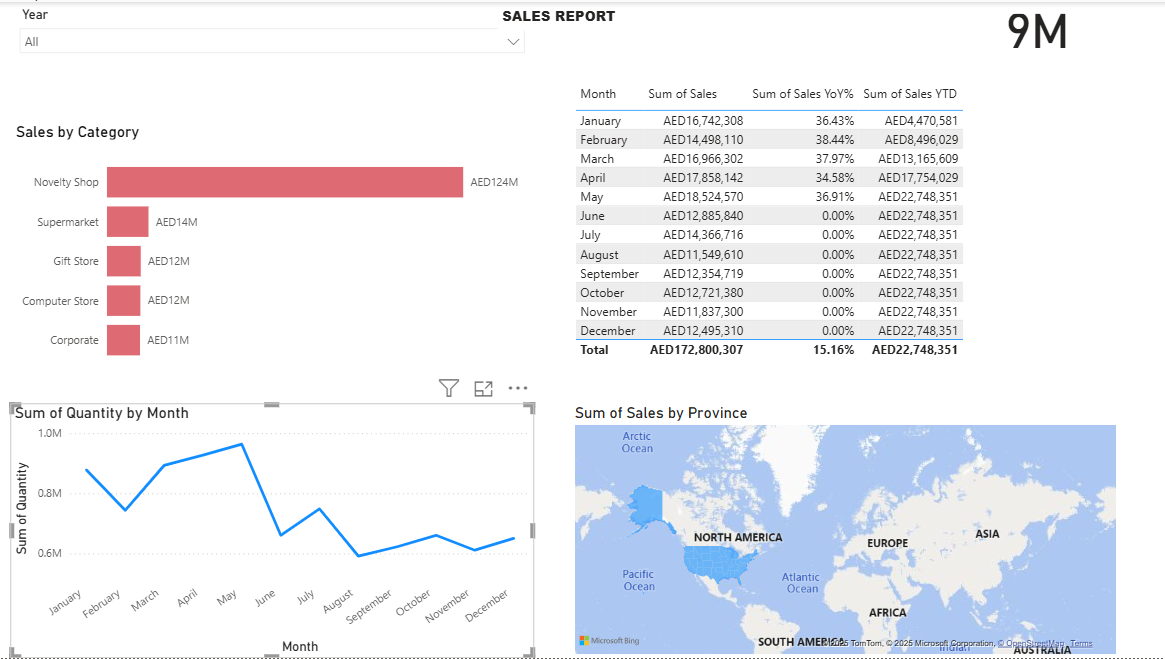

What the dashboard file says about the page in this screenshot:
{"tool":"powerbi","page":{"name":"Page 1","canvas":[1280,720],"ordinal":0},"visuals":[{"type":"barChart","title":"Sales by Category","fields":{"Category":["MasterCustomer1.CustomerCategoryName"],"Y":["Sum(InvoiceData.Sales)"]},"box":[13.7,131.7,573.6,279.9],"z":0},{"type":"slicer","fields":{"Values":["InvoiceData.date.Variation.Date Hierarchy.Year"]},"box":[12.3,0,575,70],"z":1000},{"type":"tableEx","fields":{"Values":["InvoiceData.date.Variation.Date Hierarchy.Month","Sum(InvoiceData.Sales)","InvoiceData.Sum of Sales YoY%","InvoiceData.Sum of Sales YTD"]},"box":[627.1,85.1,603.8,326.6],"z":2000},{"type":"filledMap","fields":{"Category":["MasterCustomer1.Province"]},"box":[627.1,440.5,603.8,279.9],"z":3001},{"type":"lineChart","fields":{"Category":["InvoiceData.date.Variation.Date Hierarchy.Month"],"Y":["Sum(InvoiceData.Quantity)"]},"box":[12.3,440.5,575,279.9],"z":3002},{"type":"textbox","box":[547.5,0,159.2,31.6],"z":3003},{"type":"card","fields":{"Values":["Sum(InvoiceData.Quantity)"]},"box":[1048.4,8.2,182.5,54.9],"z":3004}]}

Visuals, with their boxes in screenshot pixels (x1, y1, x2, y2), scaled from the page's 1280x720 canvas onto the 1165x659 screenshot:
"Sales by Category" barChart: detection(12, 121, 535, 377)
slicer - InvoiceData.date.Variation.Date Hierarchy.Year: detection(11, 0, 535, 64)
tableEx - InvoiceData.date.Variation.Date Hierarchy.Month x Sum(InvoiceData.Sales): detection(571, 78, 1120, 377)
filledMap - MasterCustomer1.Province: detection(571, 403, 1120, 658)
lineChart - InvoiceData.date.Variation.Date Hierarchy.Month x Sum(InvoiceData.Quantity): detection(11, 403, 535, 658)
textbox: detection(498, 0, 643, 29)
card - Sum(InvoiceData.Quantity): detection(954, 8, 1120, 58)
